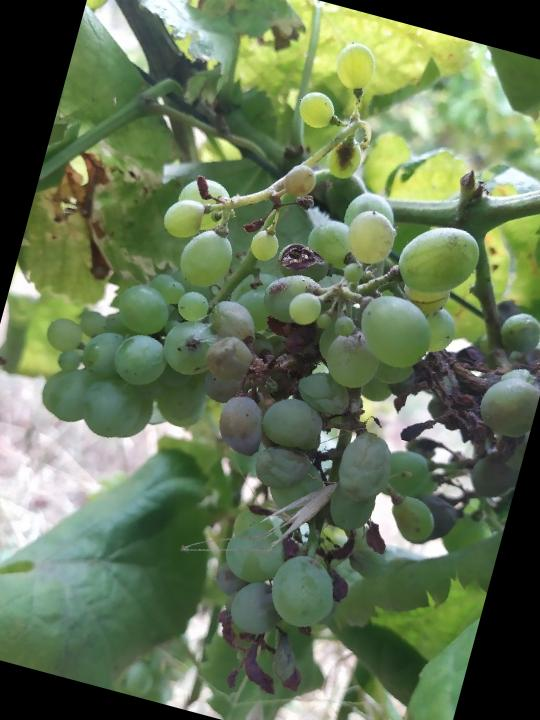grape: (115, 156, 540, 720)
